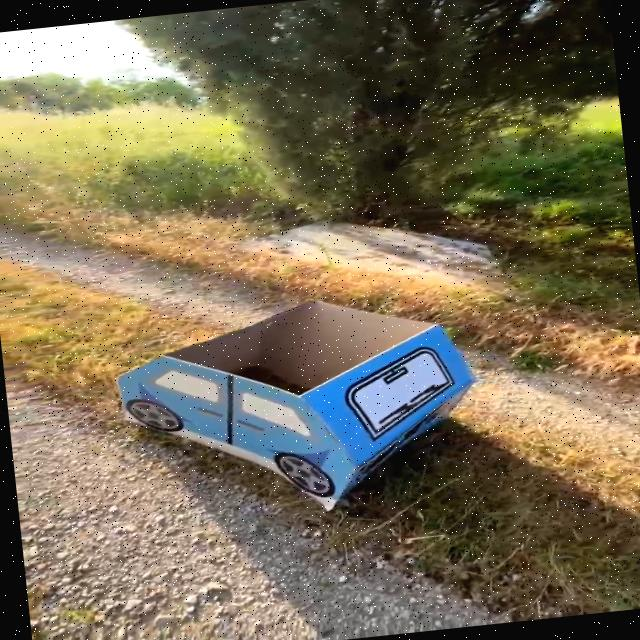blue_car: (63, 248, 533, 556)
